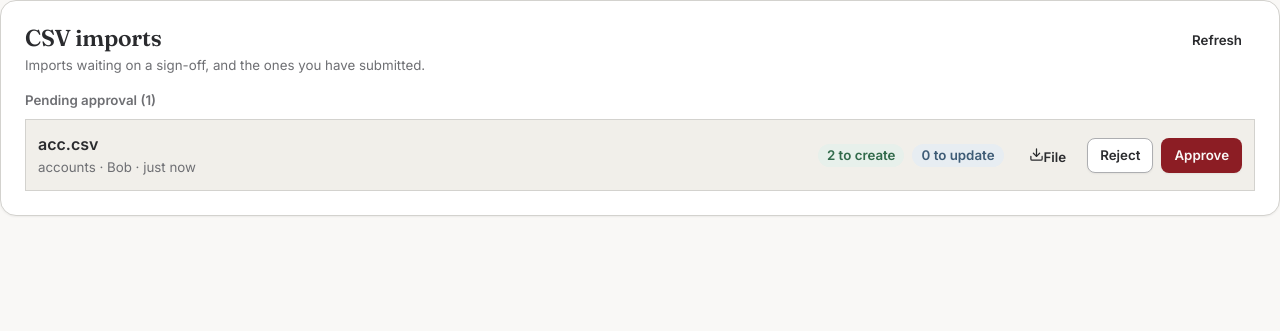
Test: ImportApprovals › shows a pending request to an approver and approves it
Expected: the text "acc.csv" is shown, [38,134,98,154]
Expected: the text "accounts · Bob · just now" is shown, [38,160,196,176]
Step 1. Click the button "Approve" → (1202, 155), box [1161,138,1242,173]
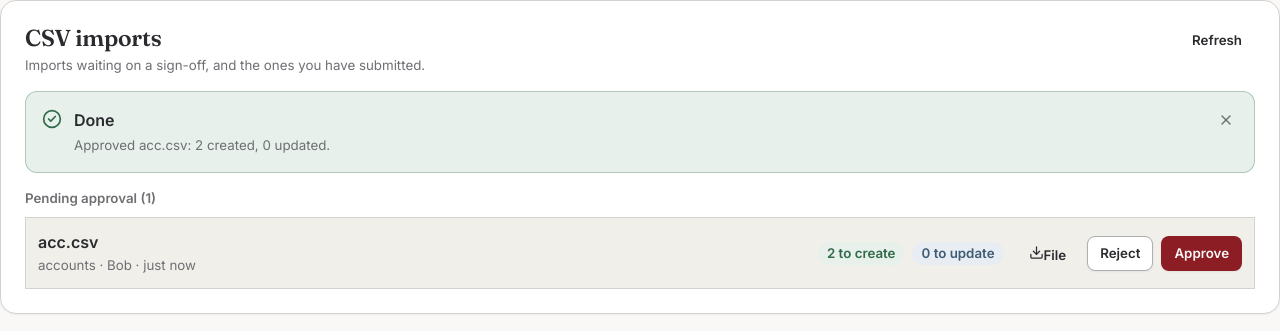
Result: the text "Approved acc.csv: 2 created, 0 updated." is shown at [74,138,330,154]
